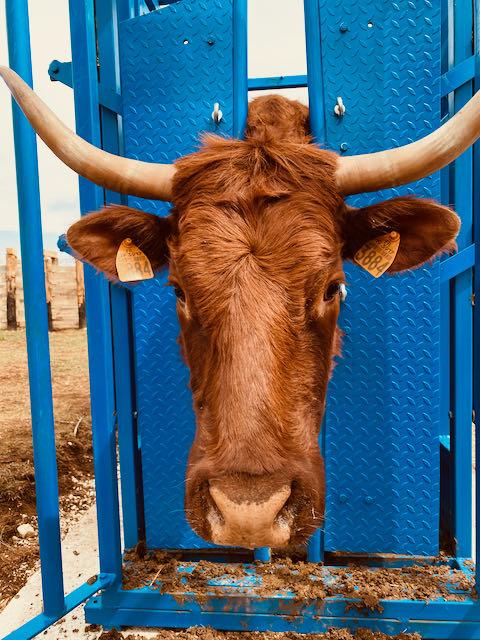muzzles: (177, 468, 324, 557)
